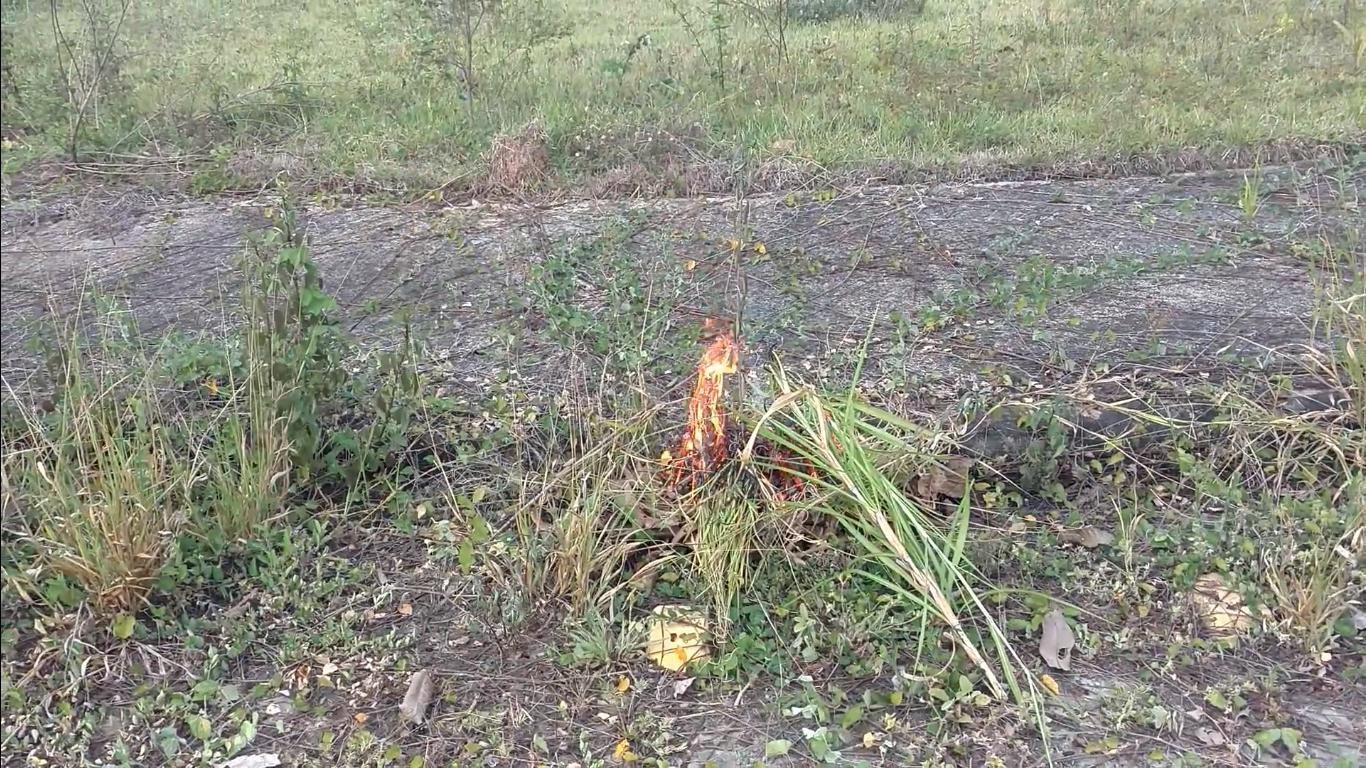Fire: (665, 316, 751, 481)
